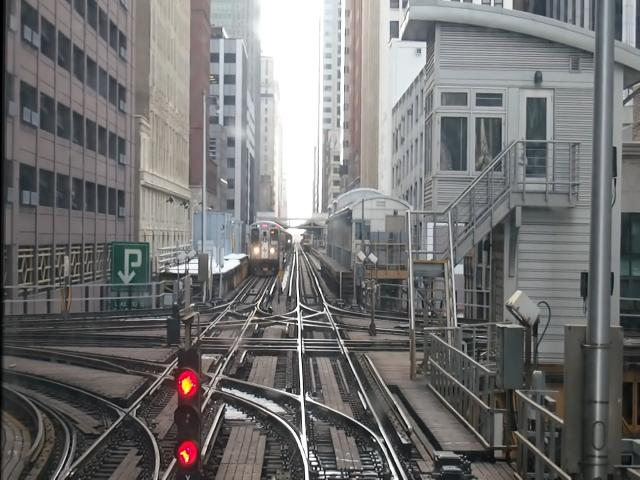signal light: (175, 348, 208, 480)
